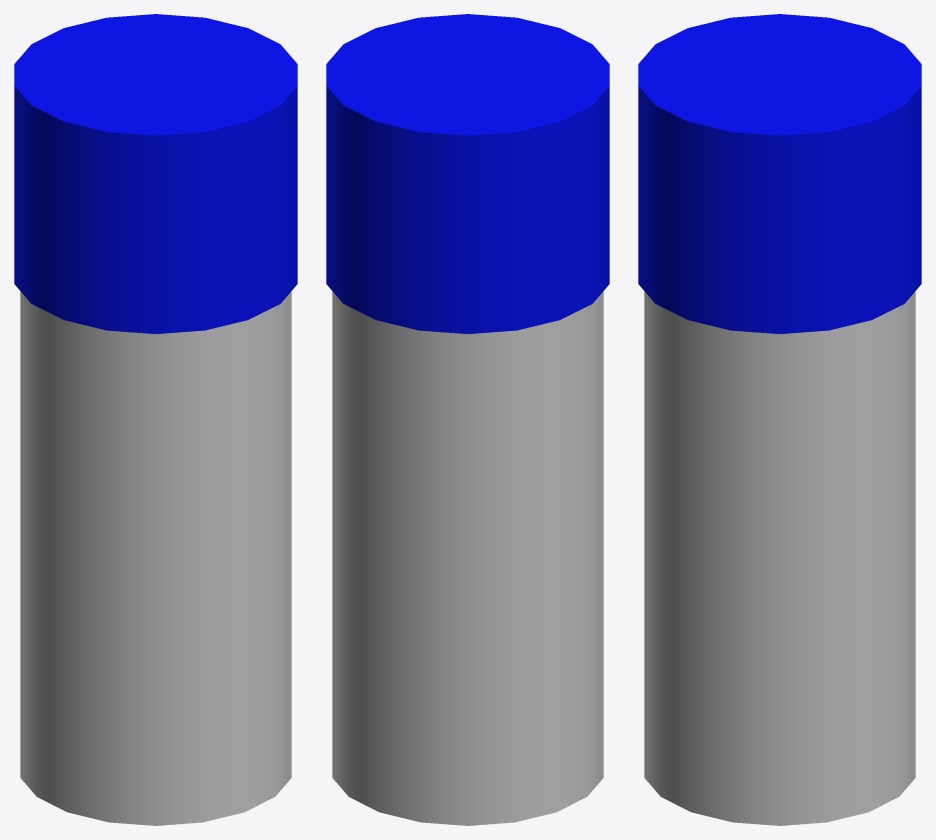
The model's file is stickglue.FBX.
3 renders of one model, left to right at view 1: azimuth 30°, elevation 25°; view 2: azimuth 150°, elevation 25°; view 3: azimuth 270°, elevation 25°, orthographic.
Parts seen in each view (by area): view 1: Cylinder001, Cylinder002; view 2: Cylinder001, Cylinder002; view 3: Cylinder001, Cylinder002.
Part boxes in pixels (box(x1,y1,x2,y2)): Cylinder001: box(20, 291, 291, 825); Cylinder002: box(14, 14, 297, 333); Cylinder001: box(332, 291, 603, 825); Cylinder002: box(326, 14, 609, 333); Cylinder001: box(644, 291, 915, 825); Cylinder002: box(638, 14, 921, 333).
Bounding box in the file's own units: 4.6 × 12.22 × 4.53.
